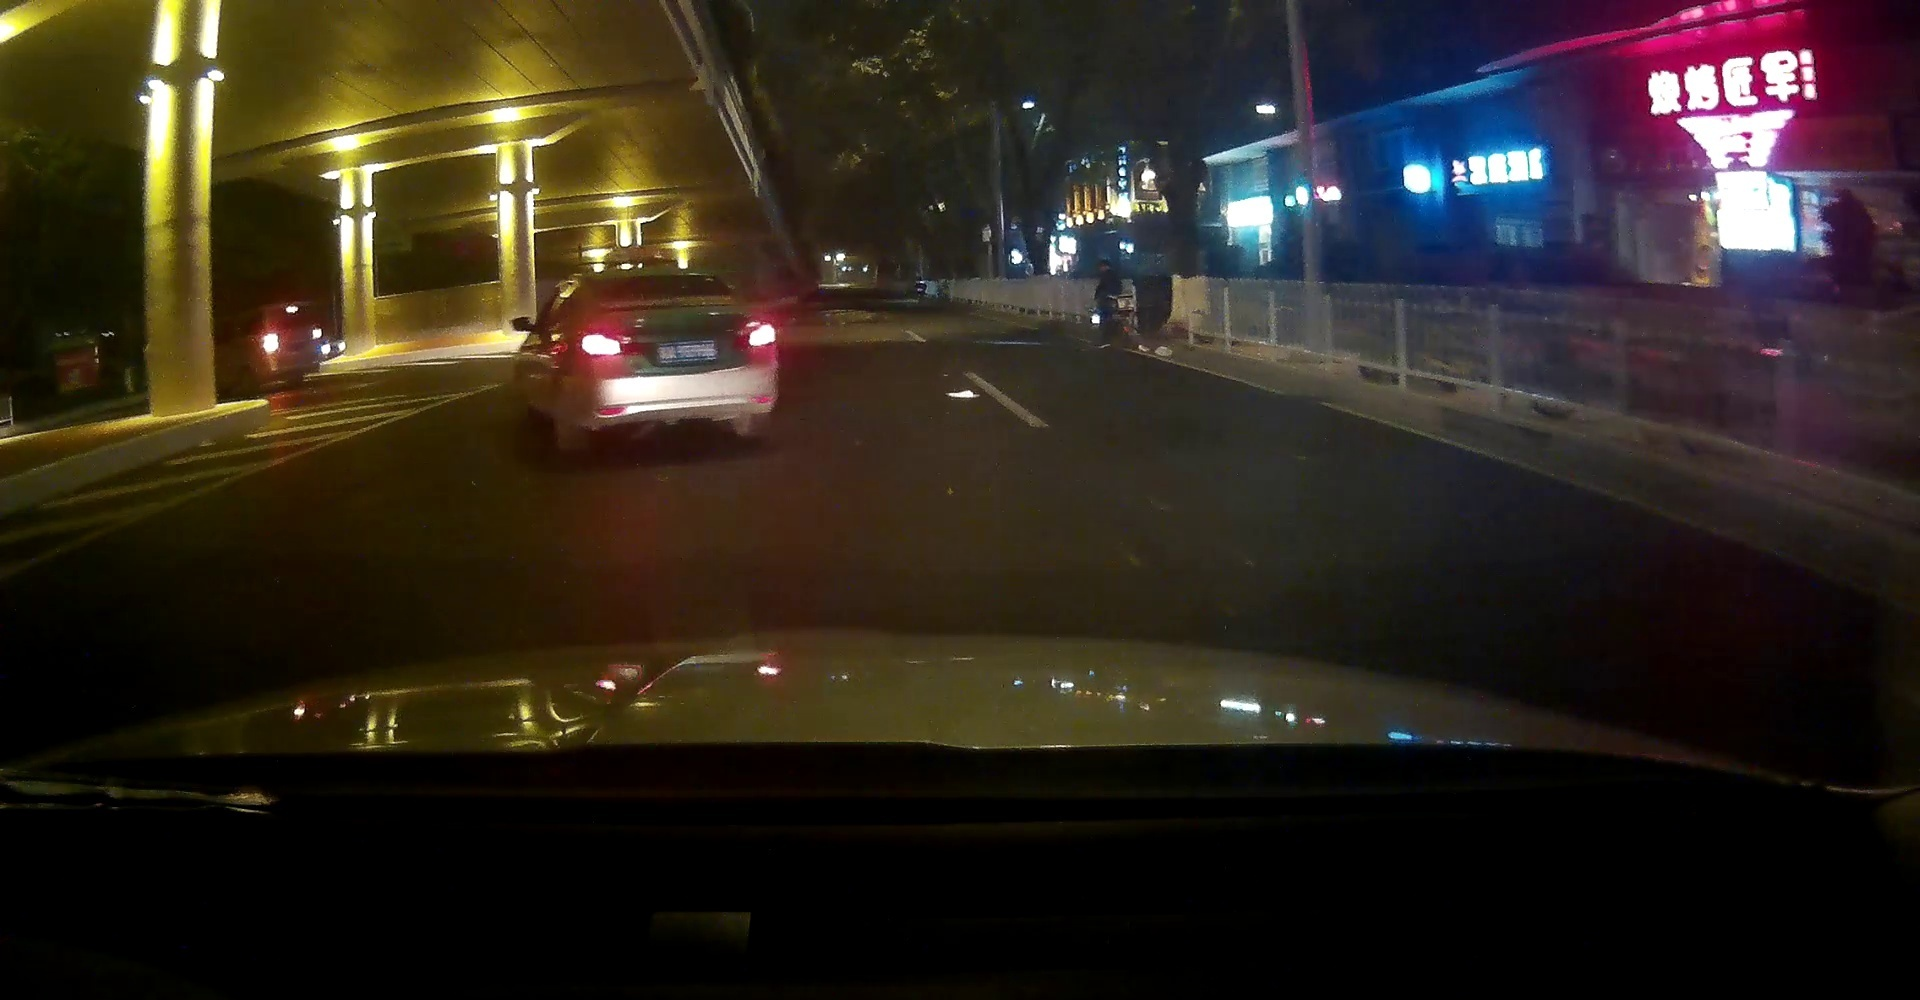L_light: (578, 332, 623, 357), (262, 332, 279, 355)
R_light: (739, 320, 776, 346), (309, 326, 323, 341)
T_light: (651, 275, 674, 283), (284, 305, 298, 313)
night-brake: (259, 299, 321, 388)
night-no: (571, 264, 778, 451)
